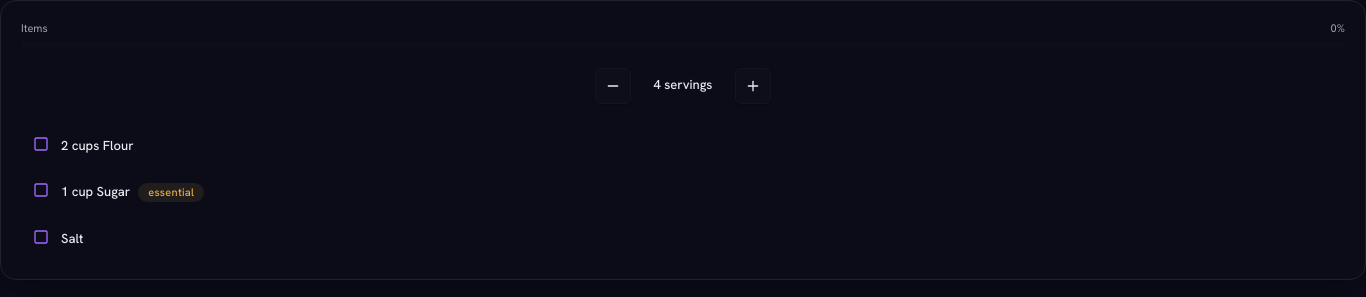
ChecklistInteractive › should show servings scaler when scalable
Expected: the text "4 servings" is shown, [654,76,712,93]
Click the button named "Increase servings". click: (753, 86)
box: [735,68,771,104]
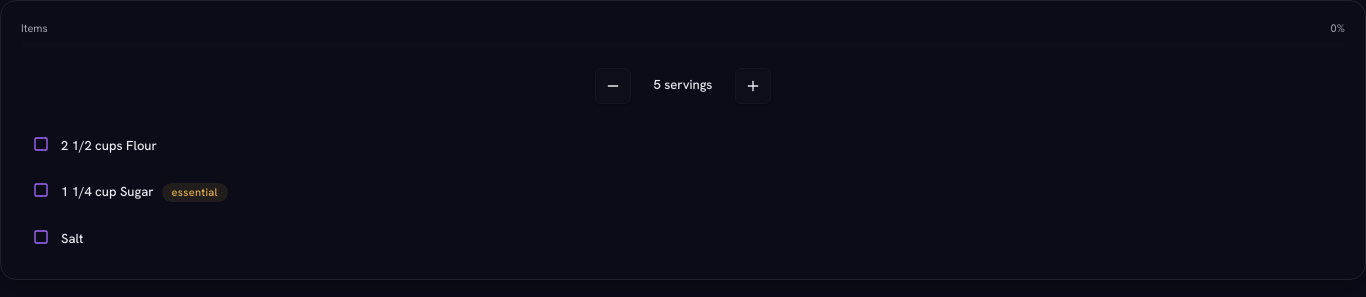
Expected: the text "5 servings" is shown, [654,76,712,93]
